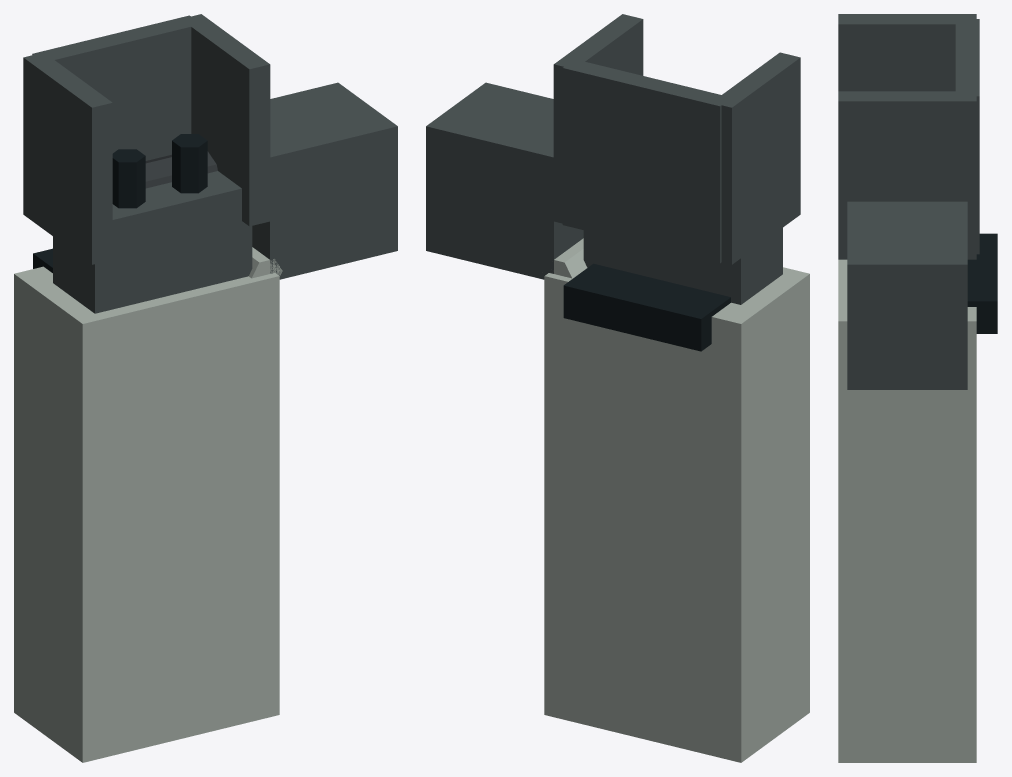
Rendered from blender_igniter_3.glb.
The picture shows the model from 3 angles, left to right: view 1: azimuth 30°, elevation 25°; view 2: azimuth 150°, elevation 25°; view 3: azimuth 270°, elevation 25°; orthographic projection.
Parts seen in each view (by area): view 1: blender_igniter_3; view 2: blender_igniter_3; view 3: blender_igniter_3.
Part boxes in pixels (x1,y1,x2,y2): blender_igniter_3: (14, 14, 397, 762); blender_igniter_3: (426, 14, 809, 762); blender_igniter_3: (838, 14, 997, 762).
Size of the model in its own units: 0.0618 by 0.1205 by 0.0265.
1 material, 1 textured.
